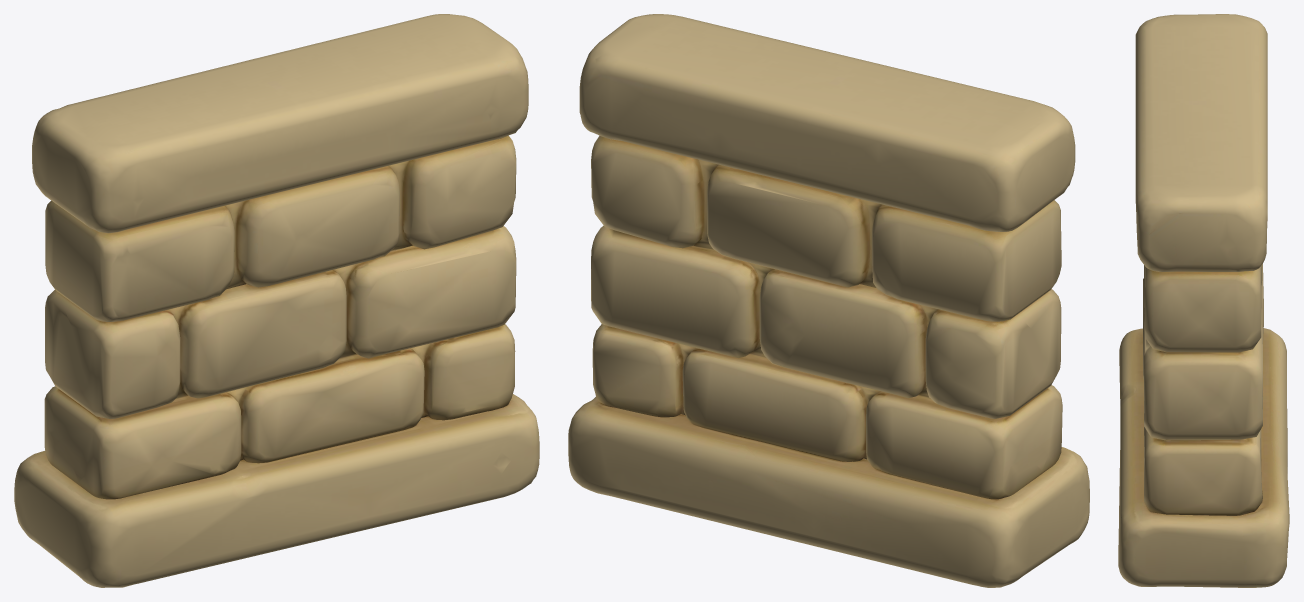
Rendered from selected.glb.
3 views of the same model, side by side, from view 1: azimuth 30°, elevation 25°; view 2: azimuth 150°, elevation 25°; view 3: azimuth 270°, elevation 25° (orthographic). The views are drawn at different scales.
Parts seen in each view (by area): view 1: tripo_node_9f30551a-a01f-43c6-b34b-857b6e512eaa; view 2: tripo_node_9f30551a-a01f-43c6-b34b-857b6e512eaa; view 3: tripo_node_9f30551a-a01f-43c6-b34b-857b6e512eaa.
Boxes of the visible parts, x1,y1,x2,y2 form: tripo_node_9f30551a-a01f-43c6-b34b-857b6e512eaa: (14,14,539,587); tripo_node_9f30551a-a01f-43c6-b34b-857b6e512eaa: (568,14,1089,587); tripo_node_9f30551a-a01f-43c6-b34b-857b6e512eaa: (1118,14,1289,587).
Bounding box in the file's own units: 0.998 × 0.9199 × 0.3652.
1 material, 1 textured.
